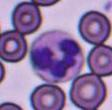N: (30, 30, 84, 81)
